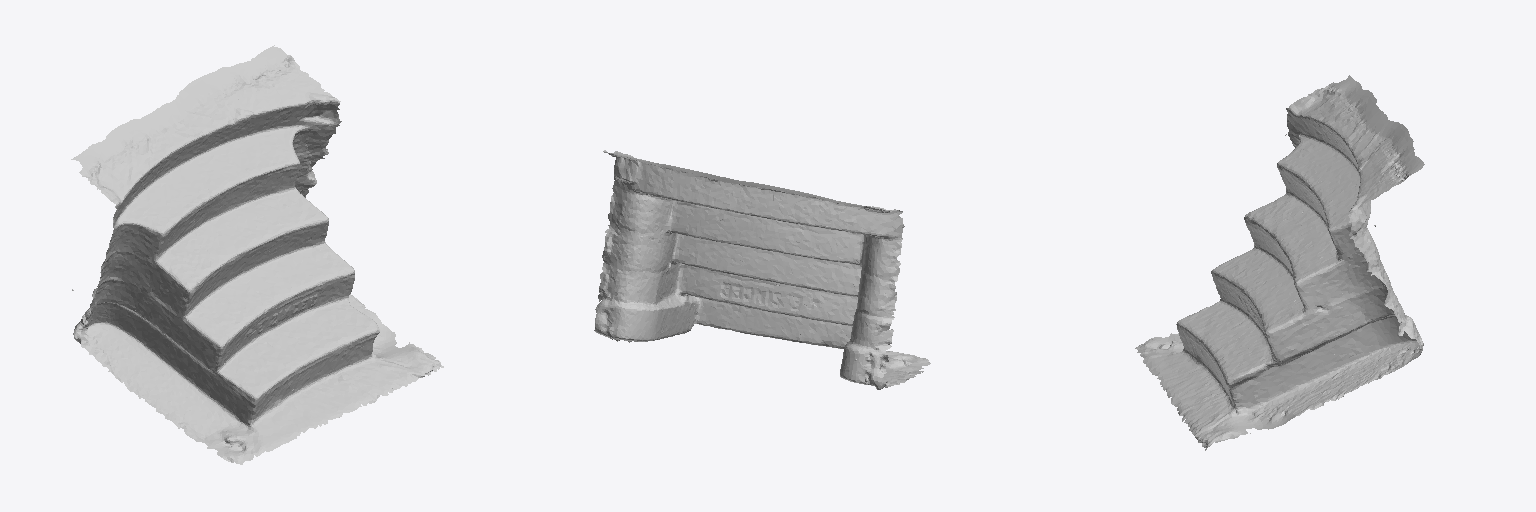
Rendered from Video Steps-exported.obj.
3 views of the same model, side by side, from view 1: azimuth 30°, elevation 25°; view 2: azimuth 150°, elevation 25°; view 3: azimuth 270°, elevation 25° (orthographic).
Size of the model in its own units: 6.1 by 5.21 by 5.09.